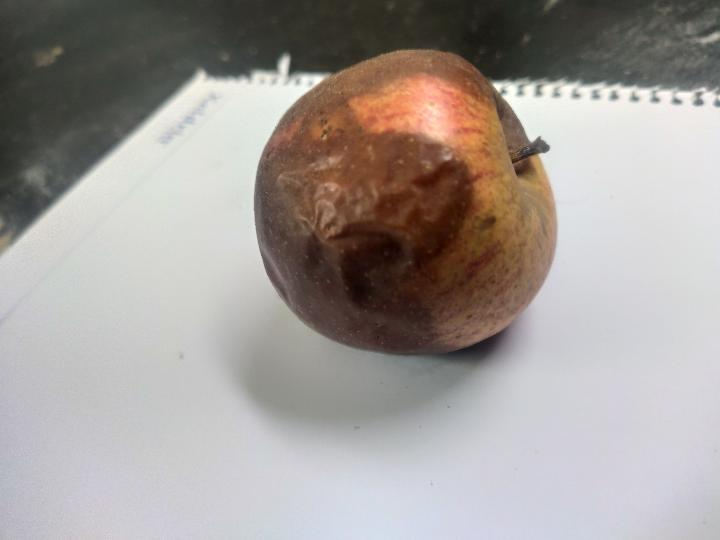apple: (255, 50, 557, 354)
rot_mold_decay: (255, 50, 490, 354), (491, 90, 529, 151)
